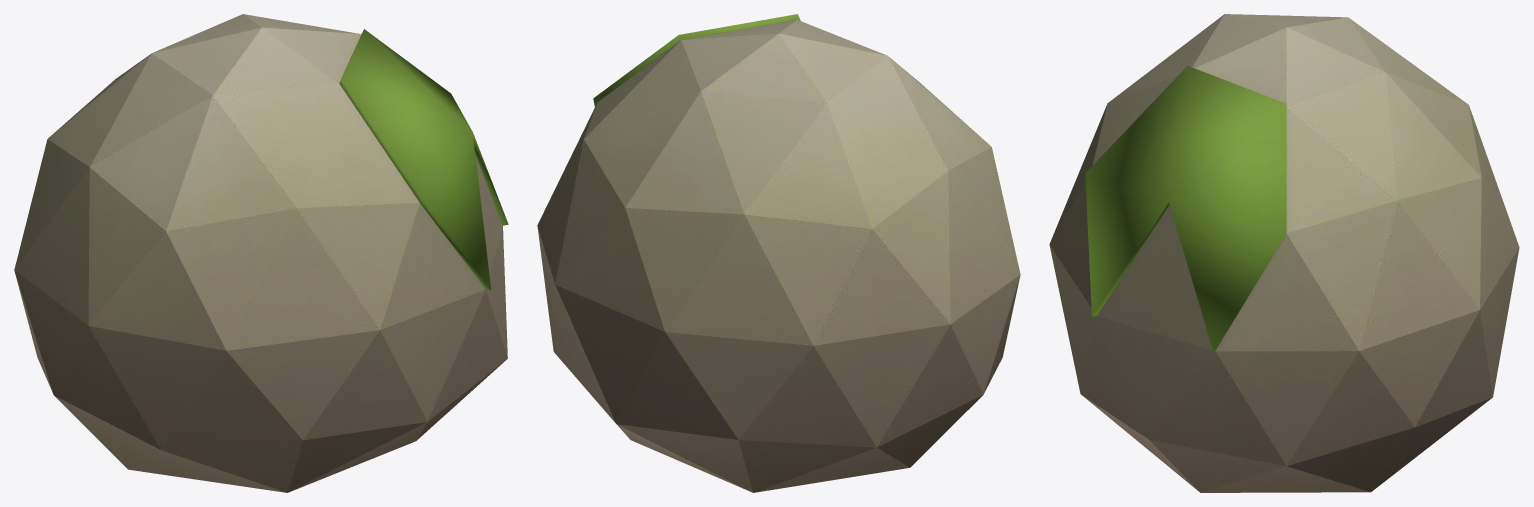
File: rock_2_low.glb
3 renders of one model, left to right at view 1: azimuth 30°, elevation 25°; view 2: azimuth 150°, elevation 25°; view 3: azimuth 270°, elevation 25°, orthographic. The views are drawn at different scales.
Parts seen in each view (by area): view 1: rock_2; view 2: rock_2; view 3: rock_2.
Boxes of the visible parts, left/top/right/bottom form: rock_2: left=14, top=14, right=508, bottom=492; rock_2: left=537, top=14, right=1020, bottom=492; rock_2: left=1049, top=14, right=1519, bottom=492.
Size of the model in its own units: 0.5949 by 0.5912 by 0.5722.
1 material, 1 textured.
